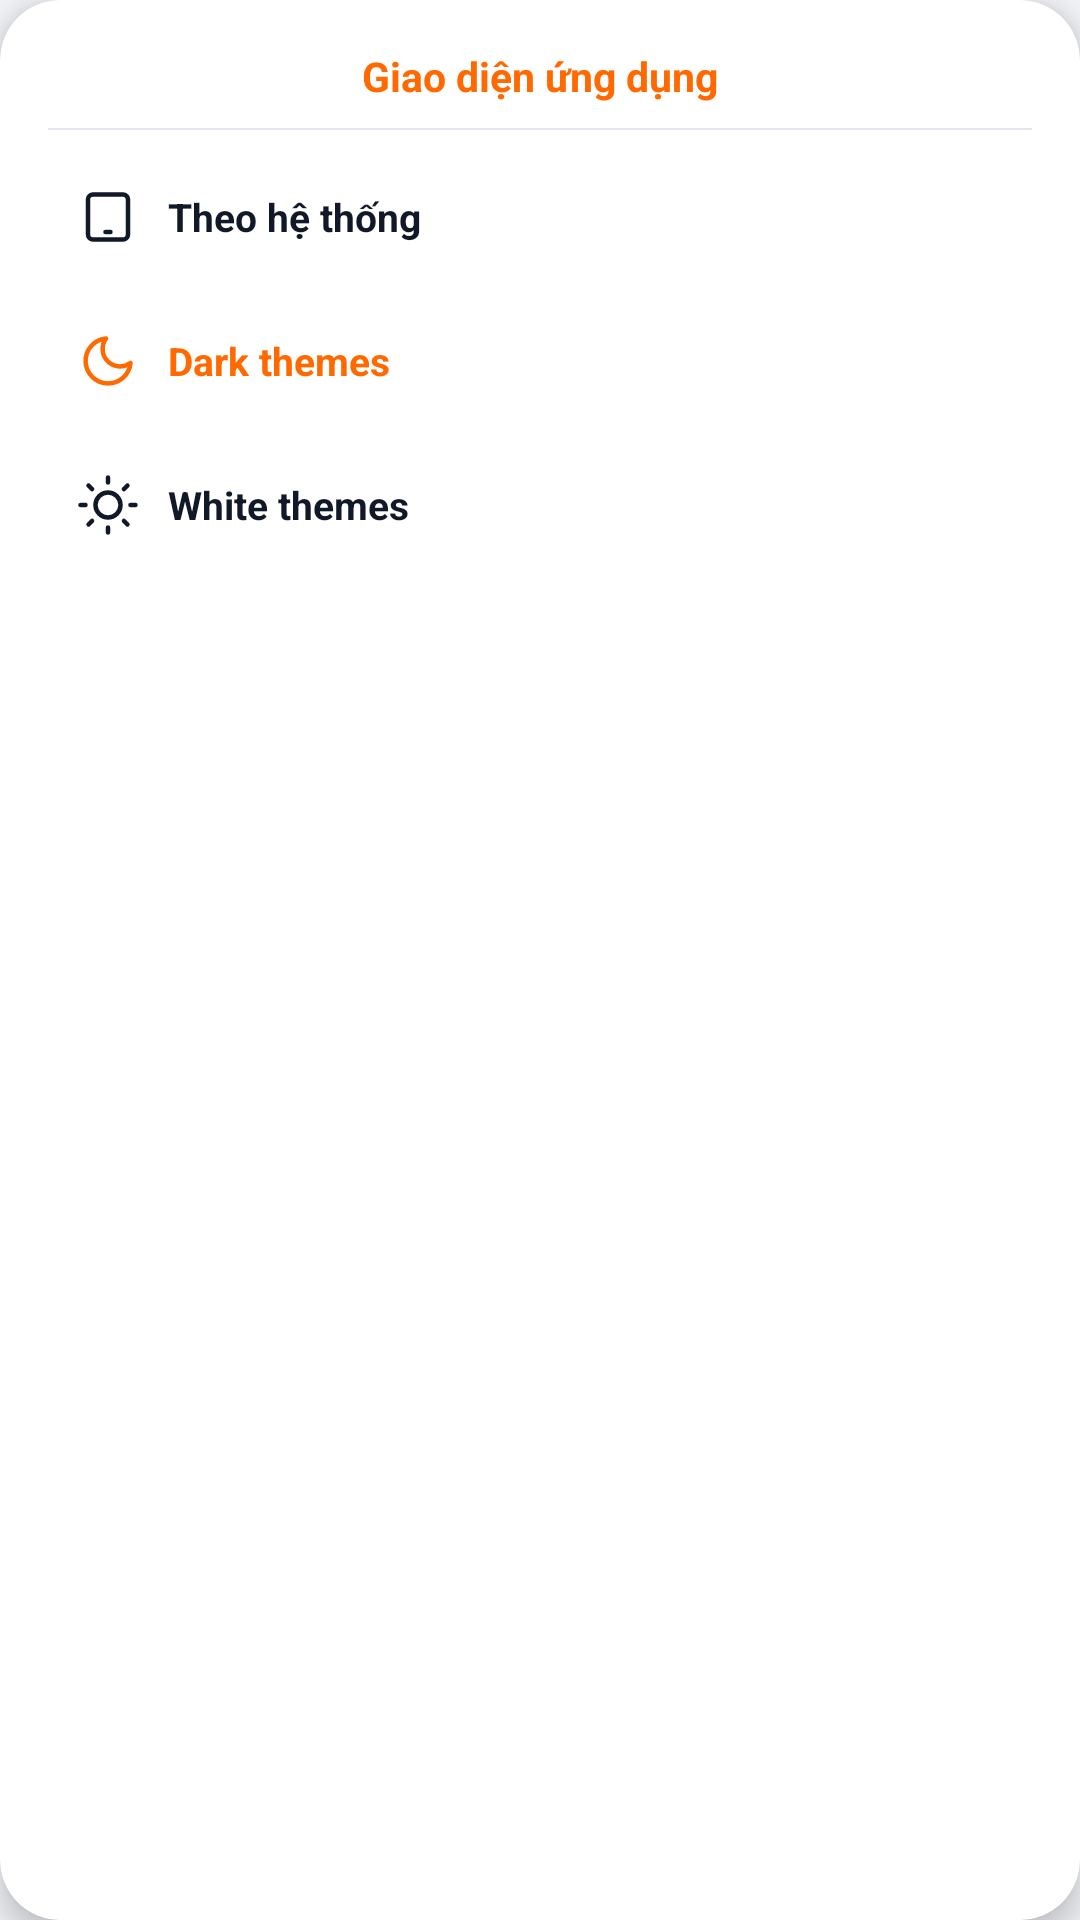

Icon bounding boxes for this 1080 × 1920 phone screenshot, format (x1, y1, x2, y2):
theme system: (85, 192, 131, 242)
